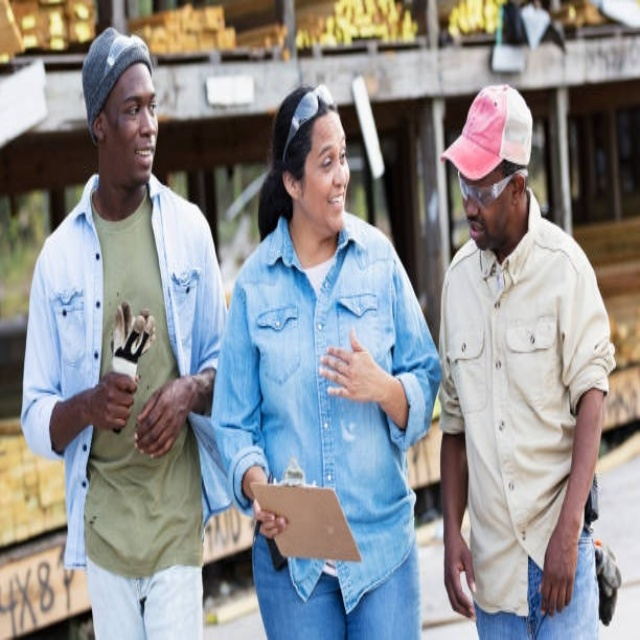Gafas: (455, 165, 521, 208)
Sin_gafas: (313, 136, 349, 177), (119, 86, 158, 122)
Sin_guantes: (318, 324, 385, 406), (135, 373, 193, 457), (438, 525, 481, 621), (536, 526, 581, 617), (91, 371, 138, 438), (251, 491, 290, 540)
Sin_mascara: (465, 209, 495, 251), (128, 136, 157, 175), (321, 185, 347, 221)
